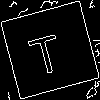T: (24, 25, 65, 78)
